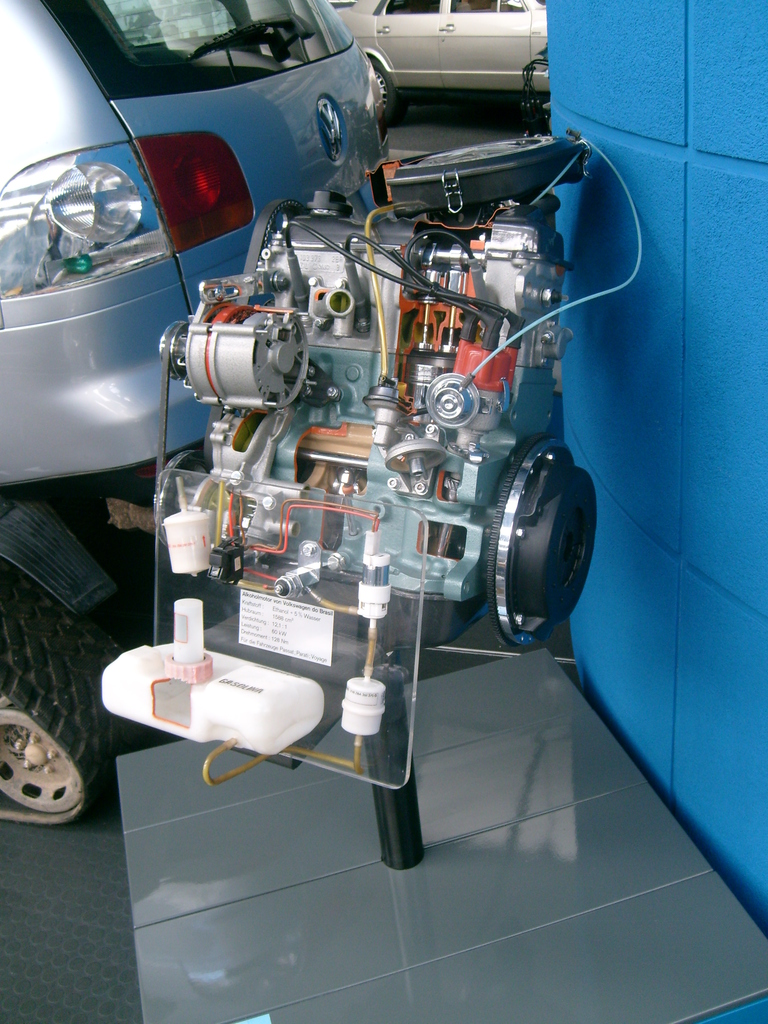Car: (0, 3, 397, 835), (339, 0, 548, 110)
